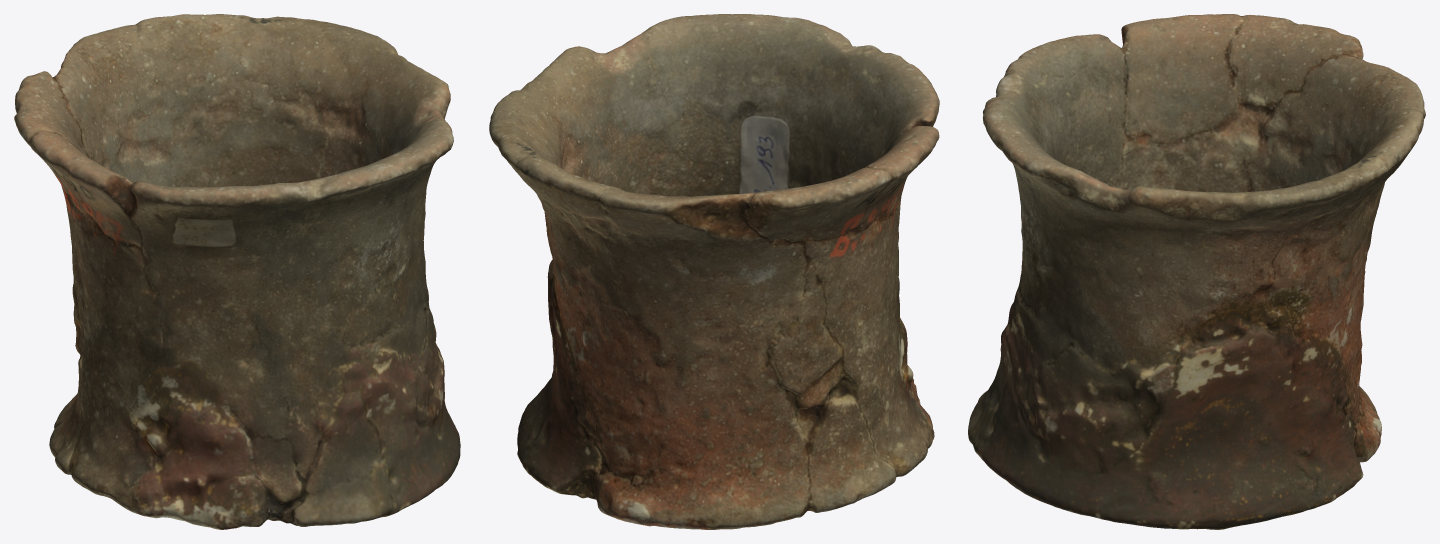
The picture shows the model from 3 angles, left to right: view 1: azimuth 30°, elevation 25°; view 2: azimuth 150°, elevation 25°; view 3: azimuth 270°, elevation 25°; orthographic projection. The views are drawn at different scales.
Visible parts, largest first — view 1: Object_2; view 2: Object_2; view 3: Object_2.
Part boxes in pixels (x1,y1,x2,y2): Object_2: (14,14,460,529); Object_2: (489,14,939,529); Object_2: (968,14,1425,529).
Bounding box in the file's own units: 0.2171 × 0.1941 × 0.2311.
Materials: 1 (1 with a texture image).
